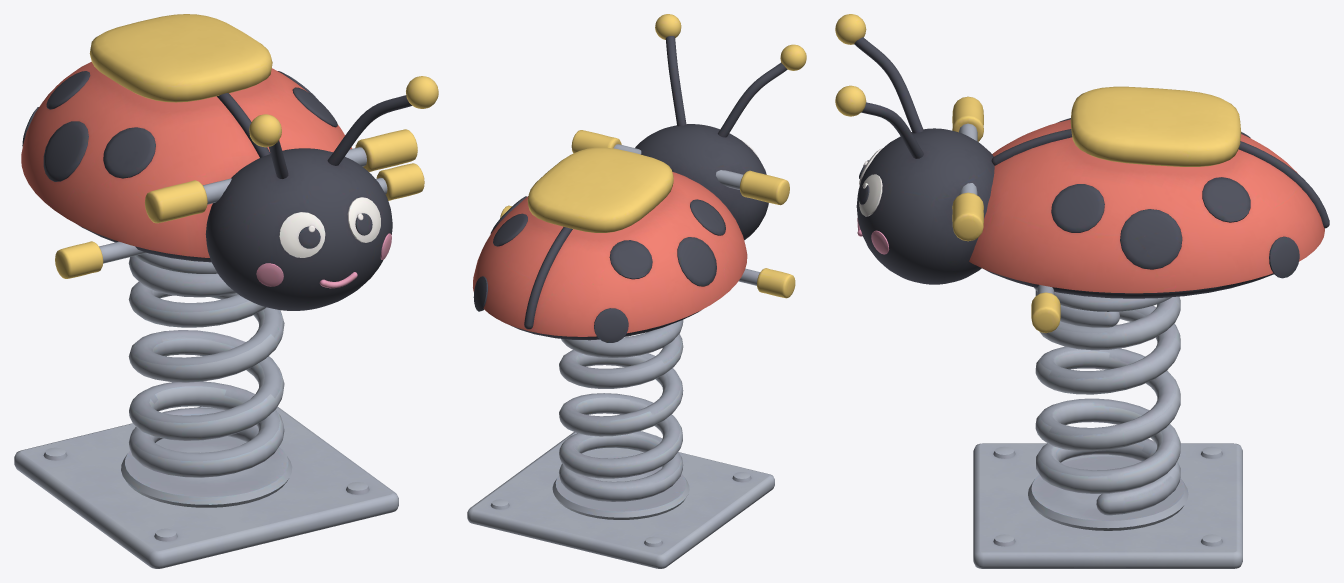
The model's file is spring_rider.glb.
3 renders of one model, left to right at view 1: azimuth 30°, elevation 25°; view 2: azimuth 150°, elevation 25°; view 3: azimuth 270°, elevation 25°, orthographic. The views are drawn at different scales.
Parts seen in each view (by area): view 1: spring-rider_ladybug, spring-rider_body; view 2: spring-rider_ladybug, spring-rider_body; view 3: spring-rider_ladybug, spring-rider_body.
Part boxes in pixels (x1,y1,x2,y2): spring-rider_ladybug: [21, 14, 438, 507]; spring-rider_body: [14, 406, 398, 568]; spring-rider_ladybug: [473, 14, 806, 519]; spring-rider_body: [467, 432, 774, 568]; spring-rider_ladybug: [835, 14, 1329, 530]; spring-rider_body: [973, 443, 1242, 568].
Size of the model in its own units: 0.75 by 0.9856 by 0.9538.
2 materials, 2 textured.
